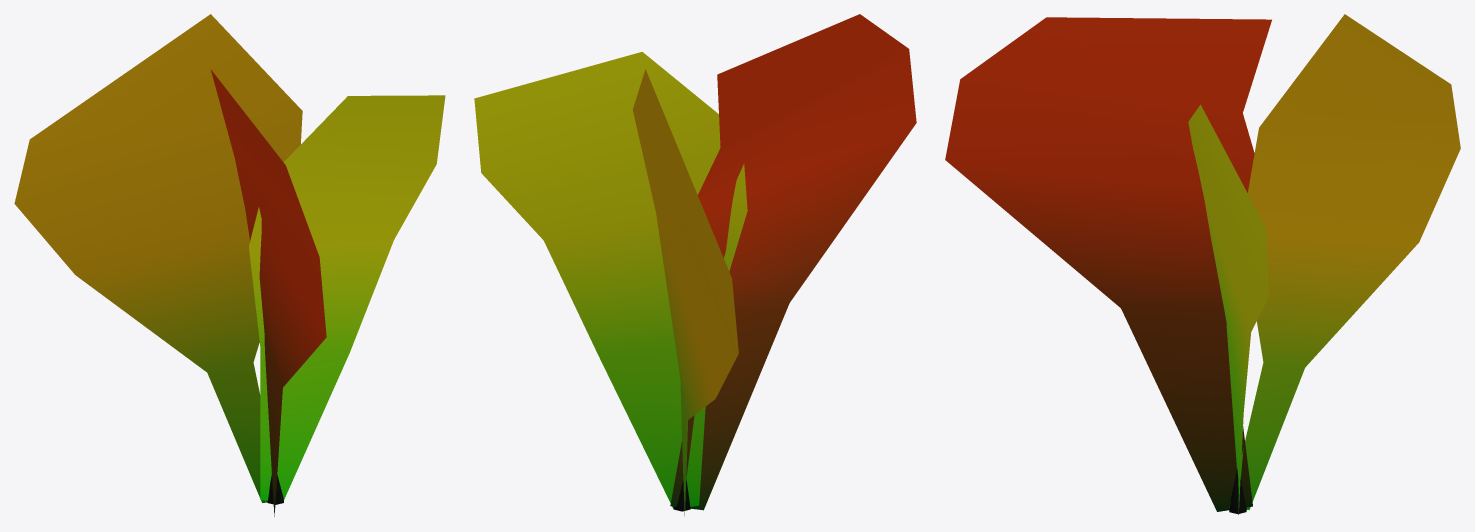
The model's file is Var5_LOD1.fbx.
The picture shows the model from 3 angles, left to right: view 1: azimuth 30°, elevation 25°; view 2: azimuth 150°, elevation 25°; view 3: azimuth 270°, elevation 25°; orthographic projection. The views are drawn at different scales.
Visible parts, largest first — view 1: _97d3_Var5_LOD1; view 2: _97d3_Var5_LOD1; view 3: _97d3_Var5_LOD1.
Part boxes in pixels (x1,y1,x2,y2): _97d3_Var5_LOD1: (14,14,445,516); _97d3_Var5_LOD1: (474,14,916,515); _97d3_Var5_LOD1: (945,14,1460,514).
Size of the model in its own units: 17.93 by 23.22 by 21.89.
